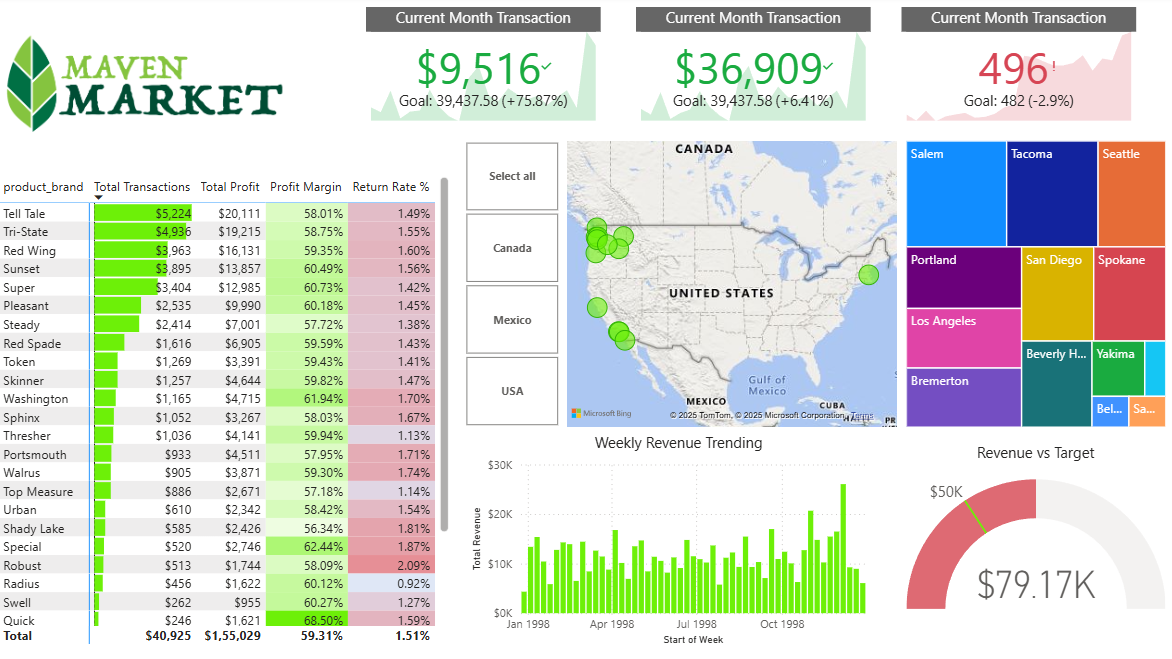

This screenshot's page, from the dashboard's own definition file:
{"tool":"powerbi","page":{"name":"Topline Performance","canvas":[1280,720],"ordinal":0},"visuals":[{"type":"image","box":[0,0,322.2,191.1],"z":0},{"type":"pivotTable","fields":{"Rows":["Products.product_brand"],"Values":["Measure table.Total Transactions","Measure table.Total Profit","Measure table.Profit Margin","Measure table.Return Rate %"]},"box":[0,191.1,495.5,514.9],"z":1000},{"type":"kpi","title":"Current Month Transaction","fields":{"Indicator":["Measure table.Total Transactions"],"TrendLine":["Calendar.Start of Month"],"Goal":["Measure table.Last Month Transactions"]},"box":[401.6,13,253.3,127.9],"z":2000,"group":"g1"},{"type":"map","fields":{"Category":["Stores.City"],"Y":["Measure table.Total Transactions"]},"box":[613.7,152.2,365.9,319],"z":2000},{"type":"kpi","title":"Current Month Transaction","fields":{"TrendLine":["Calendar.Start of Month"],"Indicator":["Measure table.Total Returned"],"Goal":["Measure table.Last Month Returns"]},"box":[979,13,253.3,127.9],"z":3000,"group":"g1"},{"type":"group","id":"g1","title":"Group 1","box":[401.6,13,830.7,127.9],"z":3000},{"type":"kpi","title":"Current Month Transaction","fields":{"Indicator":["Measure table.Total Profit"],"TrendLine":["Calendar.Start of Month"],"Goal":["Measure table.Last Month Profit"]},"box":[692.6,13,253.3,127.9],"z":4000,"group":"g1"},{"type":"slicer","fields":{"Values":["Customers.Country/Region"]},"box":[484.1,152.2,149,319],"z":4000},{"type":"treemap","fields":{"Group":["Customers.Country/Region","Stores.State","Stores.City"],"Values":["Measure table.Total Transactions"]},"box":[979.6,152.2,289.8,319],"z":5000},{"type":"columnChart","title":"Weekly Revenue Trending","fields":{"Category":["Calendar.Start of Week"],"Y":["Measure table.Total Revenue"]},"box":[510.1,471.2,458.2,234.8],"z":6000},{"type":"gauge","title":"Revenue vs Target","fields":{"Y":["Measure table.Total Transactions"],"TargetValue":["Measure table.Revenue Target"]},"box":[979.6,482.5,289.8,192.7],"z":7000}]}

Visuals, with their boxes in screenshot pixels (x1, y1, x2, y2), scaled from the page's 1280x720 canvas onto the 1172x659 screenshot:
image: detection(0, 0, 295, 175)
pivotTable - Products.product_brand x Measure table.Total Transactions: detection(0, 175, 454, 646)
"Current Month Transaction" kpi: detection(368, 12, 600, 129)
map - Stores.City x Measure table.Total Transactions: detection(562, 139, 897, 431)
"Current Month Transaction" kpi: detection(896, 12, 1128, 129)
"Group 1" group: detection(368, 12, 1128, 129)
"Current Month Transaction" kpi: detection(634, 12, 866, 129)
slicer - Customers.Country/Region: detection(443, 139, 580, 431)
treemap - Customers.Country/Region x Stores.State: detection(897, 139, 1162, 431)
"Weekly Revenue Trending" columnChart: detection(467, 431, 887, 646)
"Revenue vs Target" gauge: detection(897, 442, 1162, 618)
